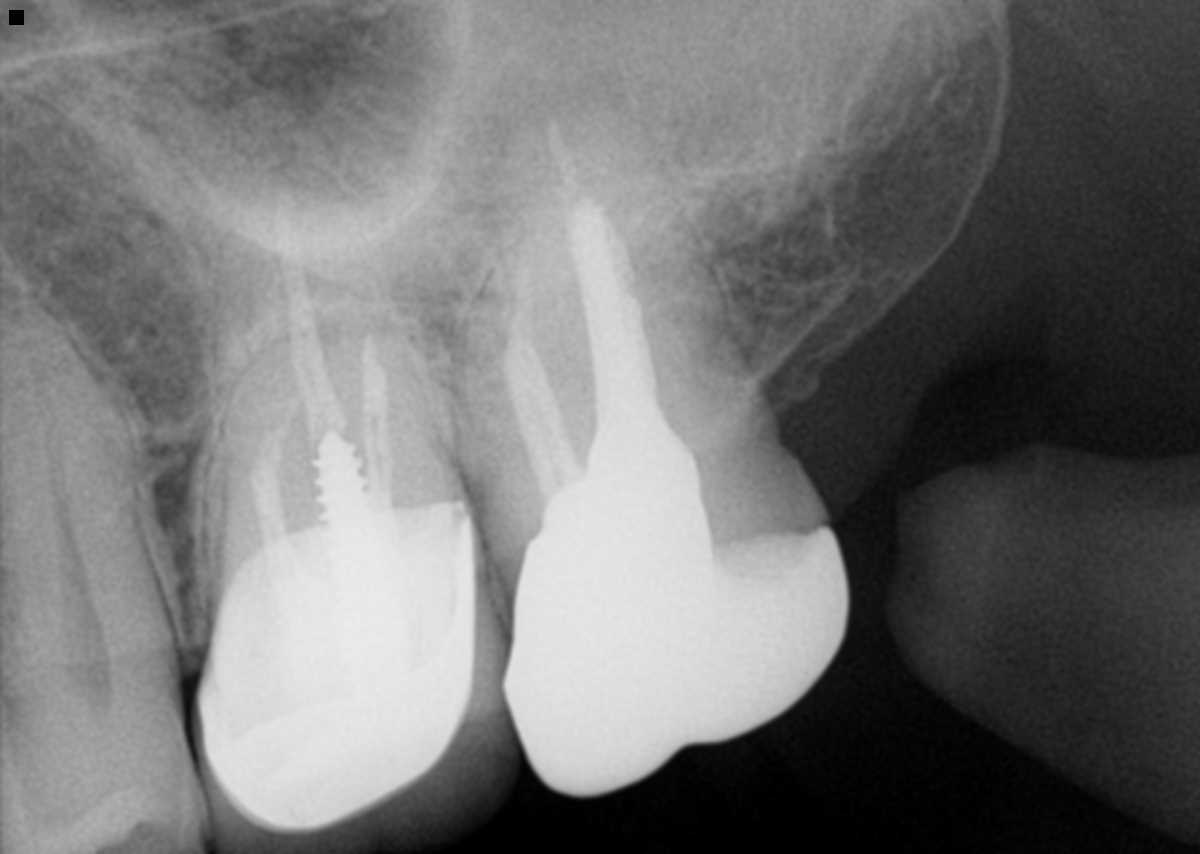Apical Lesion: (461, 26, 660, 173)
Distal Root: (502, 110, 776, 455), (333, 317, 466, 515)
Main Canal: (21, 330, 109, 665)
Main Root: (0, 290, 172, 675)
Mesial Root: (451, 224, 596, 535), (205, 329, 362, 582)
Palatal Root: (202, 147, 472, 576)
Root Canal Filling: (549, 123, 689, 455), (505, 240, 579, 493), (272, 185, 341, 442), (255, 400, 297, 565), (361, 333, 391, 505)
